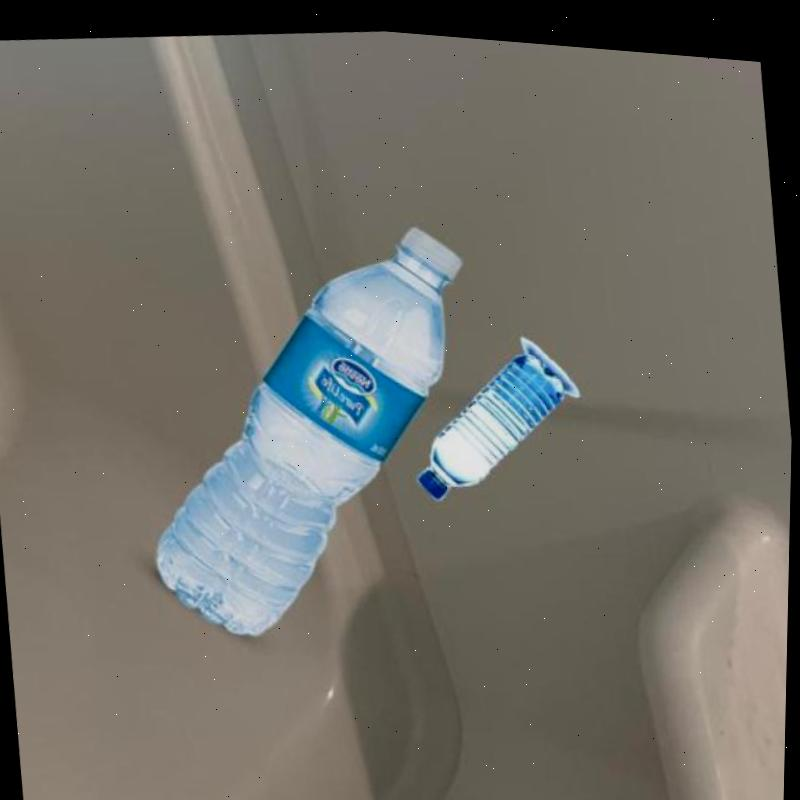botella: (123, 192, 501, 660), (407, 335, 578, 502)
